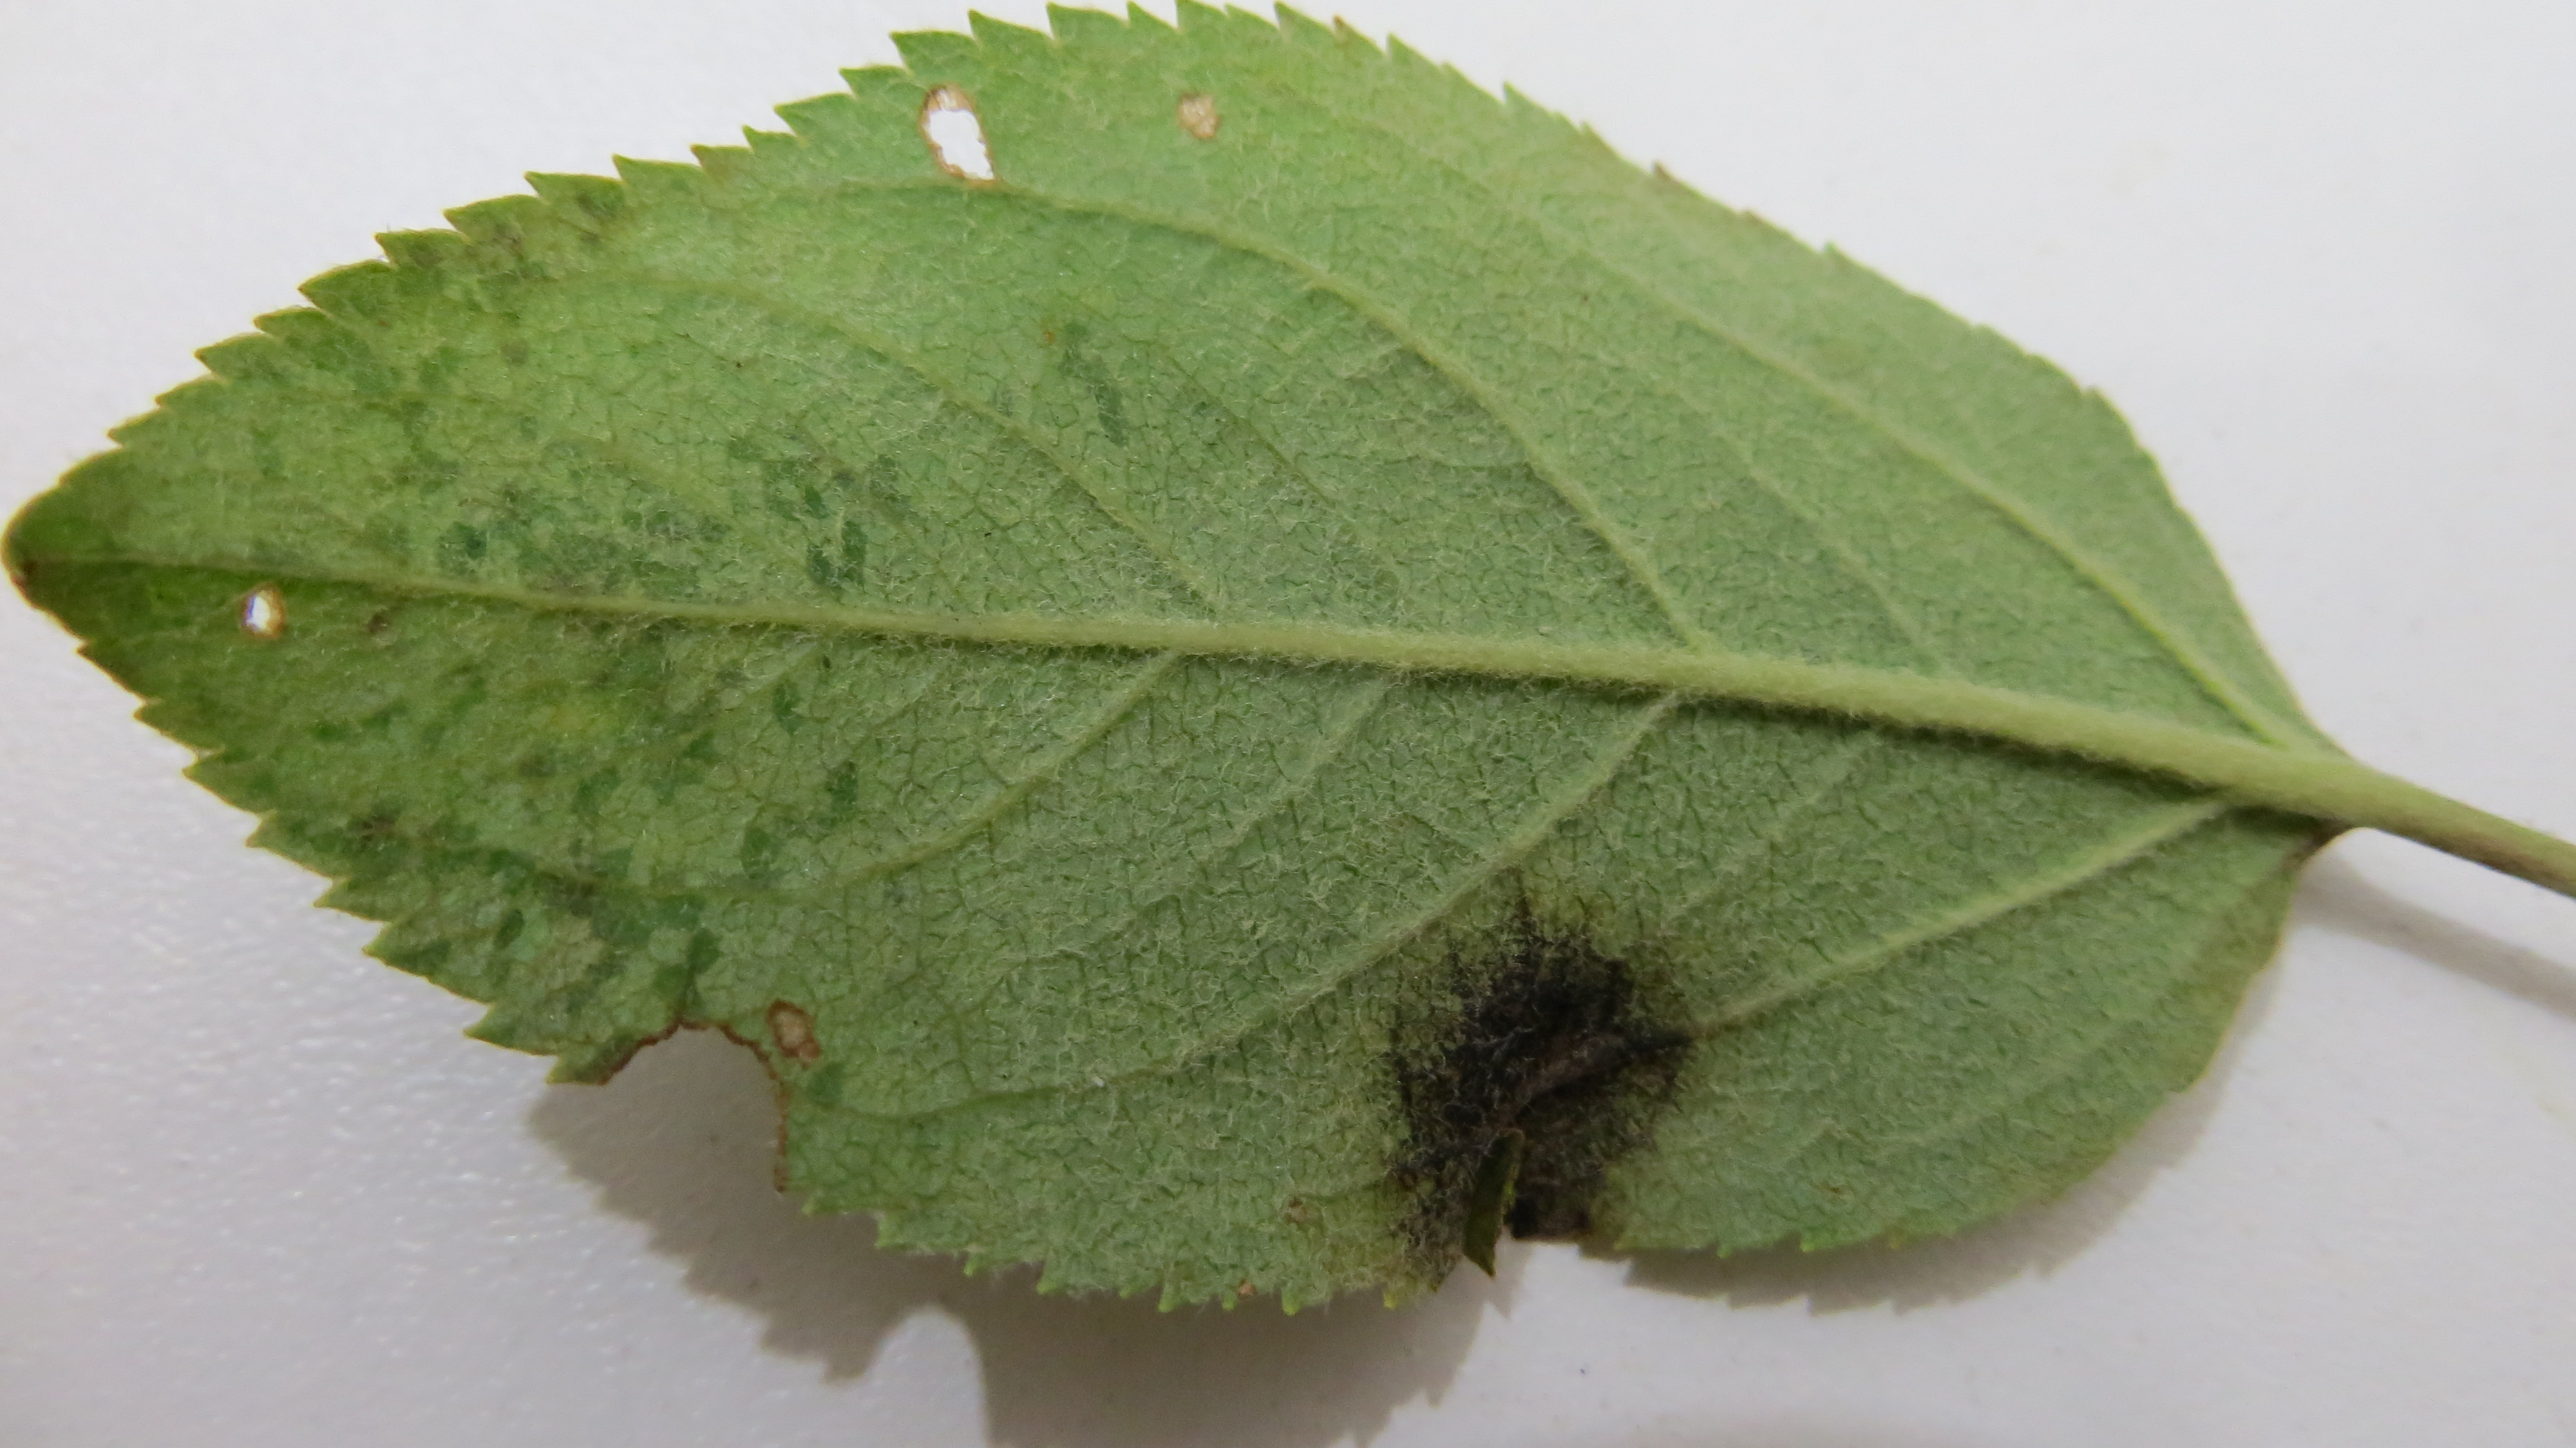sarna: (1359, 892, 1681, 1280)
